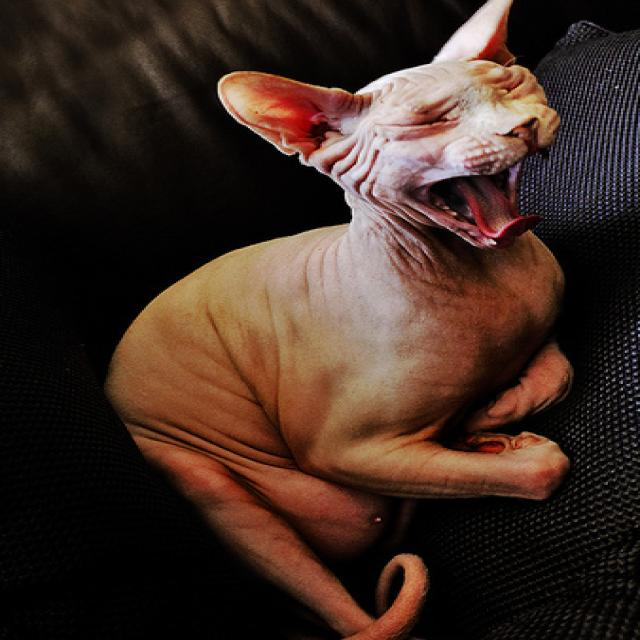Sphynx: (95, 0, 583, 640)
